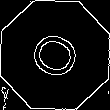O_SE: (23, 25, 87, 85)
